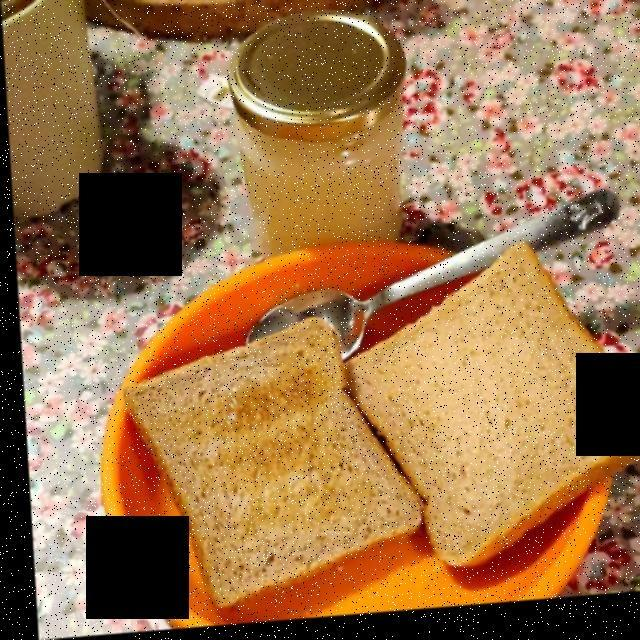bread: (109, 250, 640, 610)
honey: (240, 124, 393, 244)
